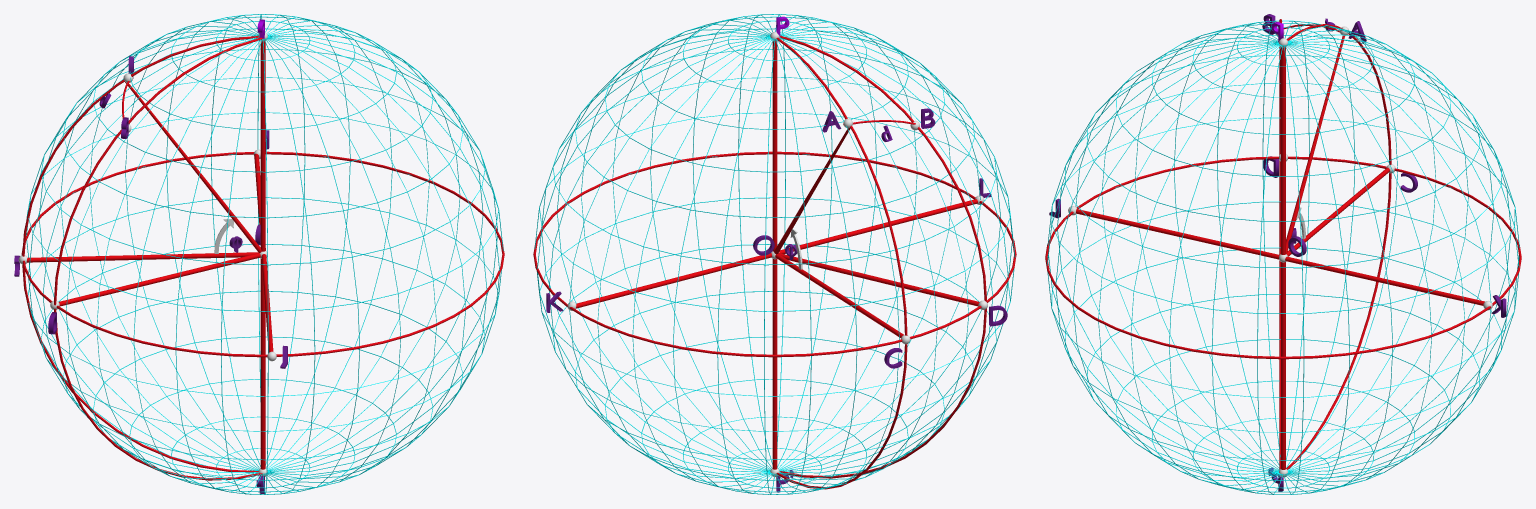
3 renders of one model, left to right at view 1: azimuth 30°, elevation 25°; view 2: azimuth 150°, elevation 25°; view 3: azimuth 270°, elevation 25°, orthographic.
Parts seen in each view (by area): view 1: Sphere, Torus.003, Cylinder.001, Torus.001, Torus.002, Cylinder.002, Cylinder.006, Cylinder.004, Cylinder.003; view 2: Sphere, Torus.003, Cylinder.001, Cylinder.003, Torus.002, Torus.001, Cylinder.006, Cylinder.002, Cylinder.004; view 3: Sphere, Torus.003, Cylinder.003, Cylinder.001, Torus.001, Cylinder.004, Torus.002, Cylinder.002.
Boxes of the visible parts, x1=… form: Sphere: x1=26, y1=14, x2=503, y2=494; Torus.003: x1=21, y1=151, x2=504, y2=357; Cylinder.001: x1=260, y1=41, x2=265, y2=469; Torus.001: x1=22, y1=36, x2=258, y2=472; Torus.002: x1=54, y1=37, x2=262, y2=480; Cylinder.002: x1=26, y1=252, x2=258, y2=262; Cylinder.006: x1=59, y1=253, x2=260, y2=306; Cylinder.004: x1=125, y1=82, x2=261, y2=252; Cylinder.003: x1=254, y1=153, x2=273, y2=352; Sphere: x1=534, y1=14, x2=1015, y2=494; Torus.003: x1=533, y1=151, x2=1016, y2=357; Cylinder.001: x1=772, y1=41, x2=777, y2=469; Cylinder.003: x1=576, y1=199, x2=977, y2=308; Torus.002: x1=779, y1=35, x2=987, y2=478; Torus.001: x1=776, y1=37, x2=907, y2=489; Cylinder.006: x1=778, y1=253, x2=979, y2=306; Cylinder.002: x1=775, y1=254, x2=903, y2=337; Cylinder.004: x1=774, y1=128, x2=850, y2=254; Sphere: x1=1047, y1=20, x2=1519, y2=494; Torus.003: x1=1045, y1=156, x2=1521, y2=359; Cylinder.003: x1=1076, y1=209, x2=1484, y2=305; Cylinder.001: x1=1281, y1=47, x2=1285, y2=469; Torus.001: x1=1286, y1=24, x2=1391, y2=469; Cylinder.004: x1=1286, y1=36, x2=1344, y2=254; Torus.002: x1=1279, y1=19, x2=1281, y2=469; Cylinder.002: x1=1287, y1=167, x2=1389, y2=256.
Bounding box in the file's own units: 2.08 × 2.17 × 2.01.
